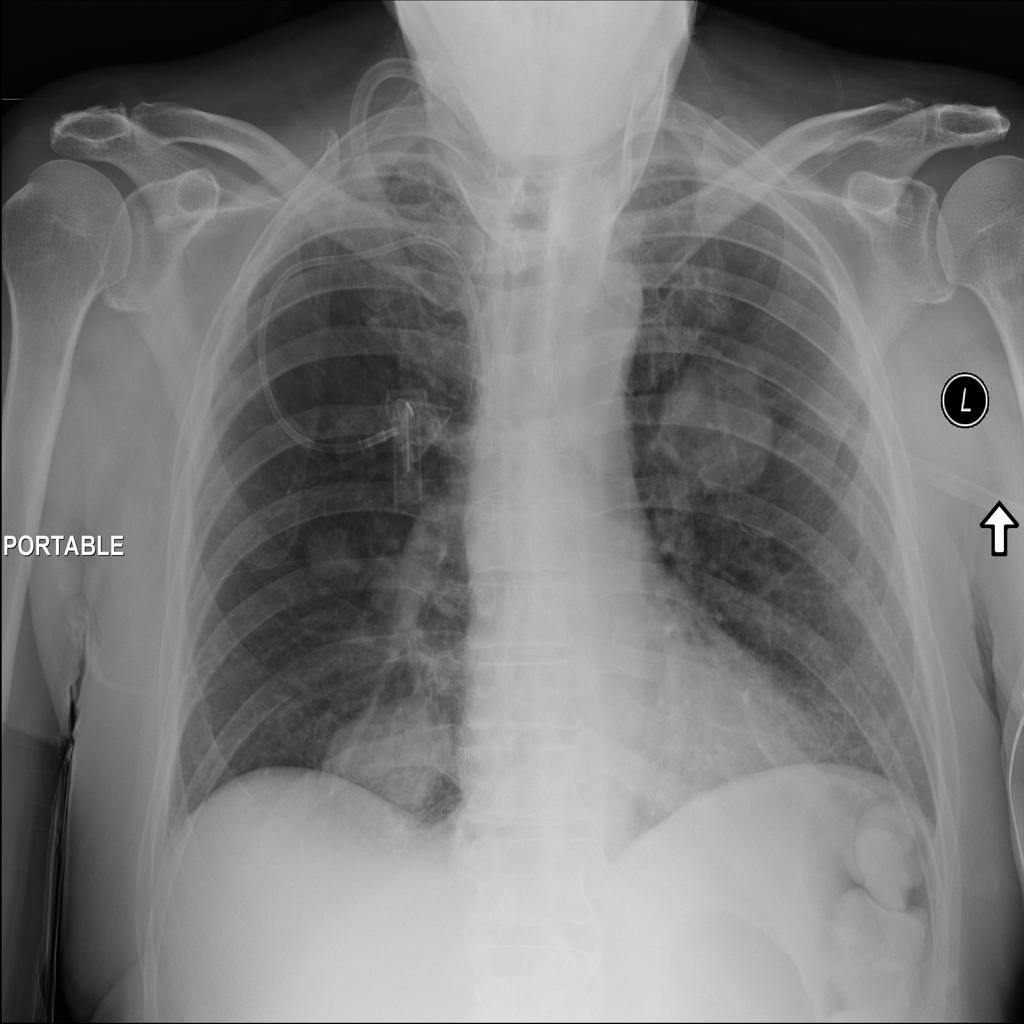nodule: (640, 347, 789, 516), (327, 682, 462, 836), (295, 514, 372, 596), (632, 754, 705, 831)
